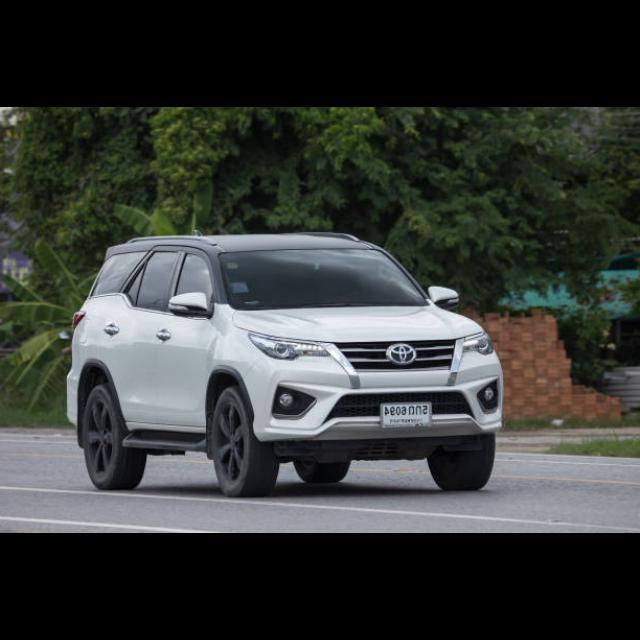vehicles: (62, 224, 508, 496)
